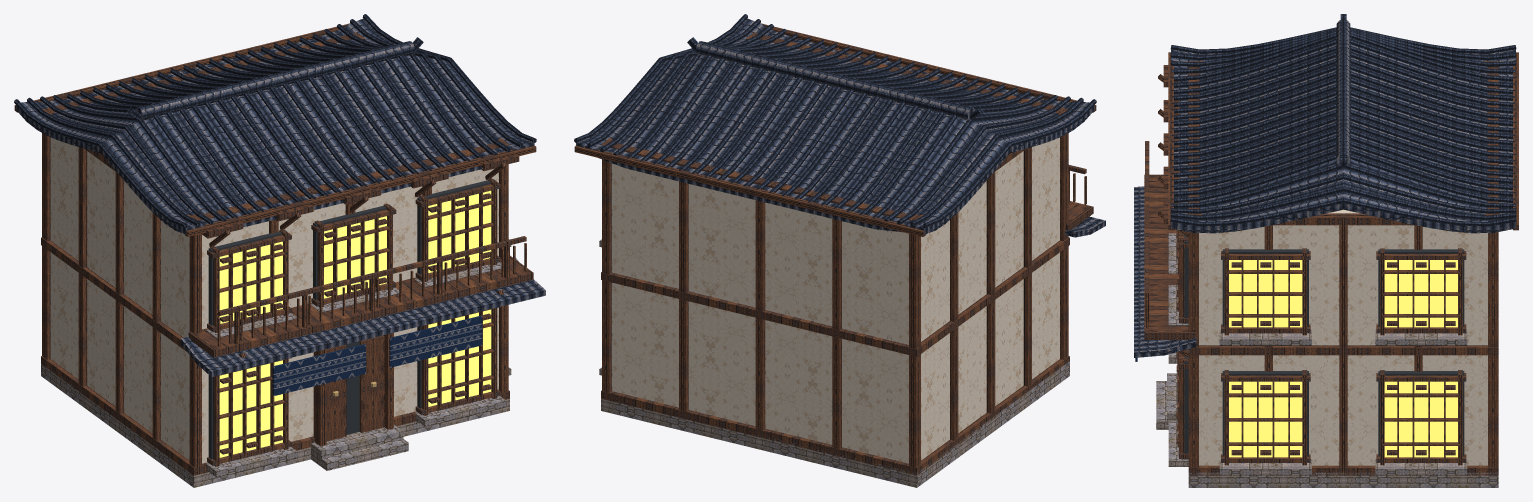
Rendered from tavern.glb.
The picture shows the model from 3 angles, left to right: view 1: azimuth 30°, elevation 25°; view 2: azimuth 150°, elevation 25°; view 3: azimuth 270°, elevation 25°; orthographic projection.
Visible parts, largest first — view 1: tavern_canal_roof, tavern_canal_wood, tavern_canal_plaster, tavern_canal_paper, tavern_canal_stone, tavern_canal_indigo, tavern_canal_dark; view 2: tavern_canal_plaster, tavern_canal_roof, tavern_canal_wood, tavern_canal_stone; view 3: tavern_canal_roof, tavern_canal_wood, tavern_canal_plaster, tavern_canal_paper, tavern_canal_stone, tavern_canal_dark.
Boxes of the visible parts, x1,y1,x2,y2 form: tavern_canal_roof: (14, 14, 545, 376); tavern_canal_wood: (14, 23, 536, 475); tavern_canal_plaster: (50, 137, 498, 463); tavern_canal_paper: (219, 190, 491, 457); tavern_canal_stone: (41, 239, 511, 487); tavern_canal_indigo: (272, 315, 482, 395); tavern_canal_dark: (208, 179, 495, 464); tavern_canal_plaster: (611, 137, 1059, 463); tavern_canal_roof: (574, 14, 1105, 237); tavern_canal_wood: (574, 23, 1096, 475); tavern_canal_stone: (599, 239, 1069, 487); tavern_canal_roof: (1134, 14, 1516, 357); tavern_canal_wood: (1144, 52, 1518, 475); tavern_canal_plaster: (1199, 209, 1487, 465); tavern_canal_paper: (1229, 260, 1457, 457); tavern_canal_stone: (1156, 233, 1498, 487); tavern_canal_dark: (1184, 235, 1464, 459).
Size of the model in its own units: 6.89 by 5.99 by 6.43.
8 materials, 5 textured.
